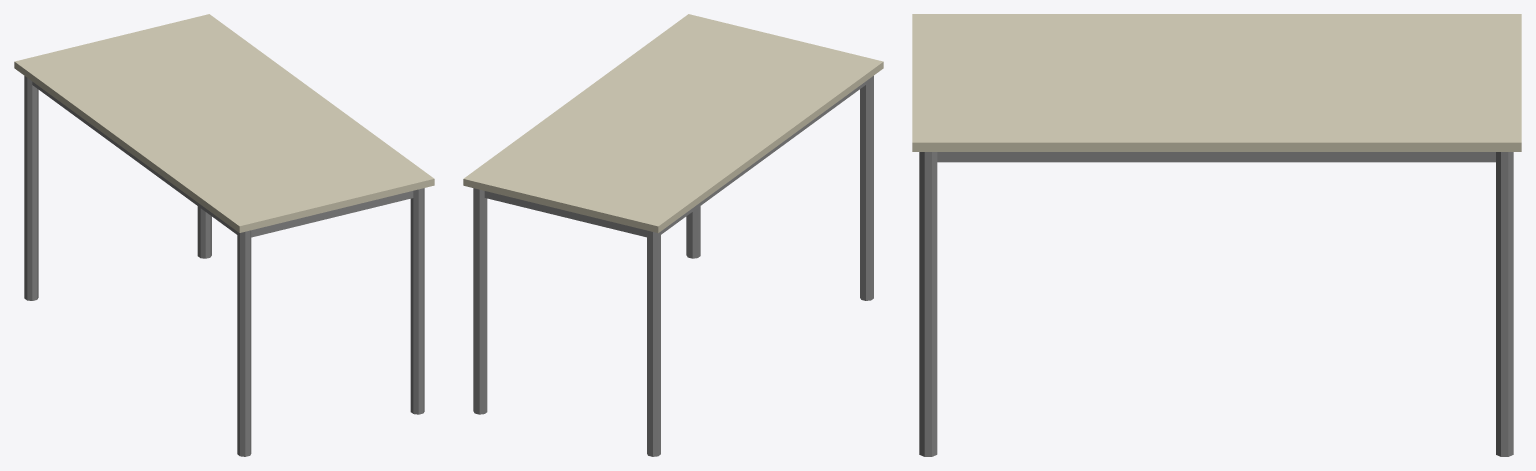
The model's file is ntibord.glb.
3 views of the same model, side by side, from view 1: azimuth 30°, elevation 25°; view 2: azimuth 150°, elevation 25°; view 3: azimuth 270°, elevation 25° (orthographic). The views are drawn at different scales.
Visible parts, largest first — view 1: Cube, Cylinder.003, Cylinder.002, Cylinder, Cube.004, Cube.002, Cylinder.001; view 2: Cube, Cylinder.001, Cylinder, Cylinder.003, Cube.001, Cube.002, Cylinder.002; view 3: Cube, Cube.003, Cylinder.002, Cylinder.001.
Boxes of the visible parts, left/top/right/bottom form: Cube: left=14, top=14, right=434, bottom=232; Cylinder.003: left=237, top=230, right=251, bottom=456; Cylinder.002: left=410, top=188, right=424, bottom=414; Cylinder: left=24, top=76, right=38, bottom=300; Cube.004: left=251, top=191, right=413, bottom=237; Cube.002: left=32, top=81, right=237, bottom=234; Cylinder.001: left=197, top=206, right=211, bottom=258; Cube: left=463, top=14, right=883, bottom=233; Cylinder.001: left=473, top=188, right=487, bottom=414; Cylinder: left=647, top=230, right=660, bottom=456; Cylinder.003: left=860, top=76, right=873, bottom=300; Cube.001: left=484, top=191, right=646, bottom=237; Cube.002: left=661, top=81, right=865, bottom=234; Cylinder.002: left=686, top=206, right=700, bottom=258; Cube: left=912, top=14, right=1521, bottom=151; Cube.003: left=937, top=152, right=1495, bottom=162; Cylinder.002: left=919, top=152, right=937, bottom=456; Cylinder.001: left=1496, top=152, right=1513, bottom=456.
Size of the model in its own units: 0.6 by 0.69 by 1.2.
